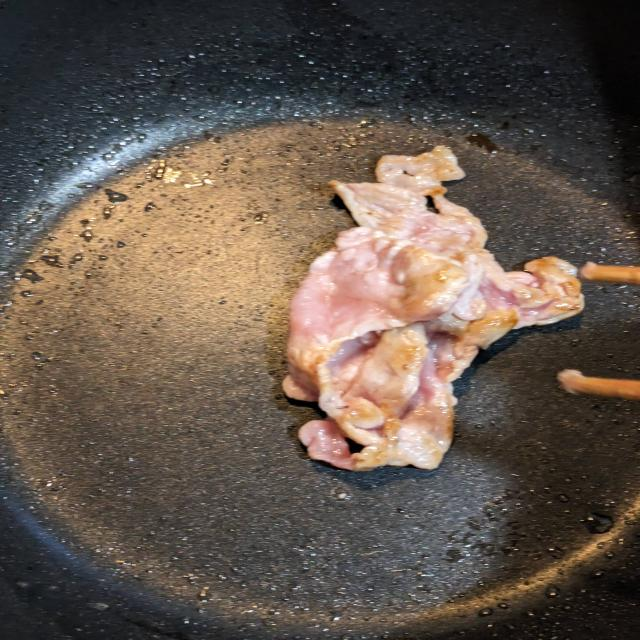NG undercooked pork,: (281, 132, 596, 480)
